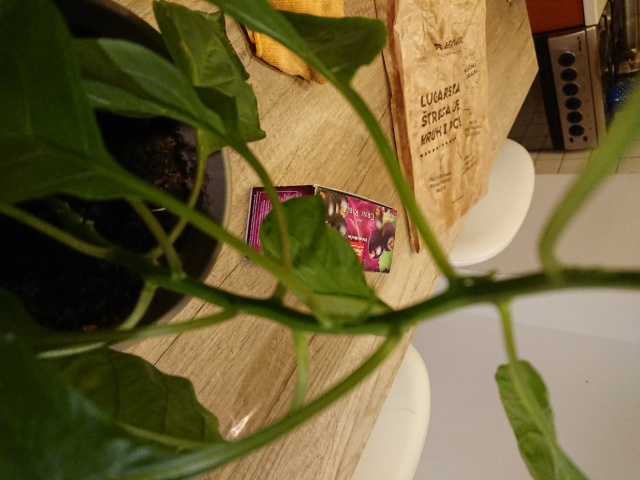Franck Black Currant Tea 60g: (241, 181, 400, 276)
